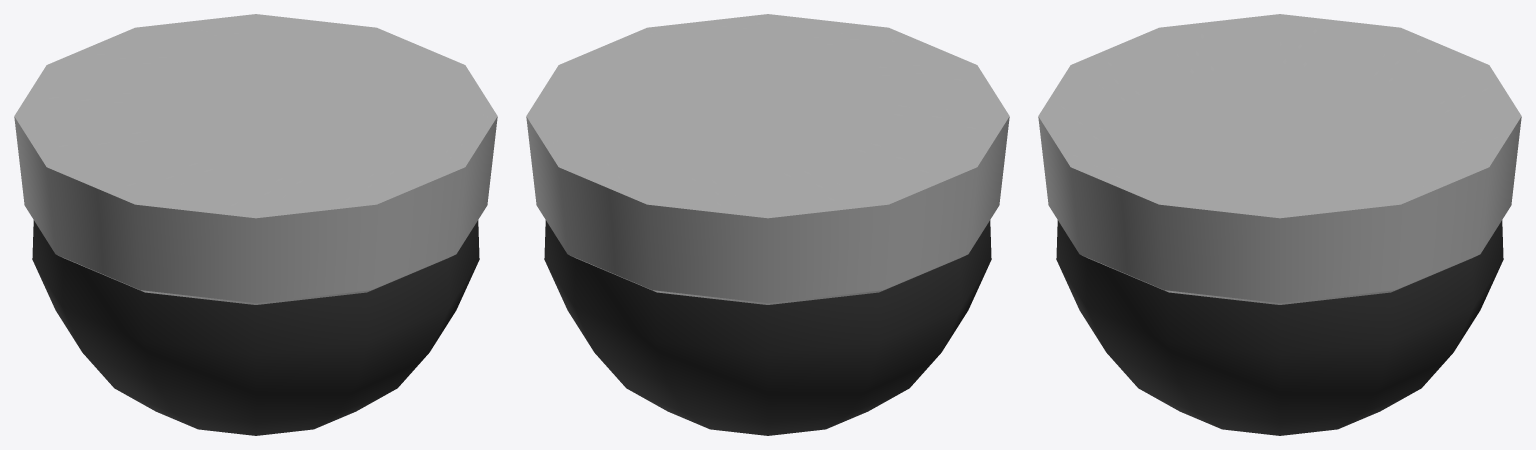
The picture shows the model from 3 angles, left to right: view 1: azimuth 30°, elevation 25°; view 2: azimuth 150°, elevation 25°; view 3: azimuth 270°, elevation 25°; orthographic projection.
Visible parts, largest first — view 1: Lo-Body_01; view 2: Lo-Body_01; view 3: Lo-Body_01.
Part boxes in pixels (box(x1,y1,x2,y2)): Lo-Body_01: box(14, 14, 497, 435); Lo-Body_01: box(526, 14, 1009, 435); Lo-Body_01: box(1038, 14, 1521, 435).
Bounding box in the file's own units: 0.1606 × 0.1096 × 0.1606.
Materials: 1 (1 with a texture image).
